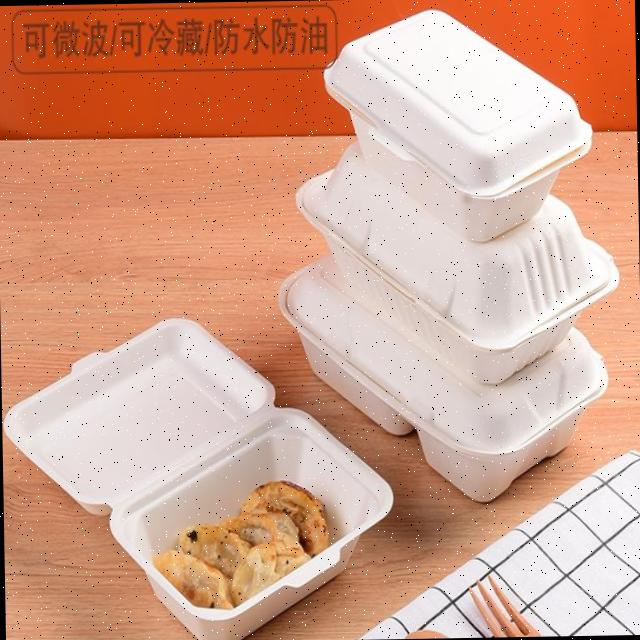styrofoam: (0, 310, 395, 640), (320, 3, 594, 245)
